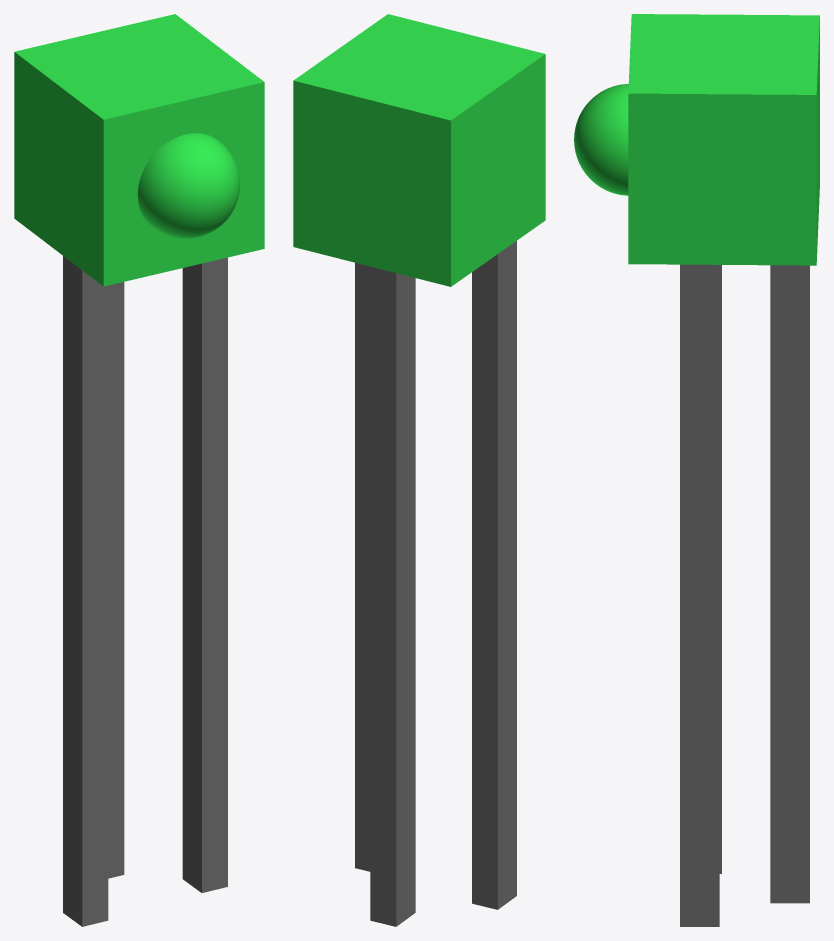
3 views of the same model, side by side, from view 1: azimuth 30°, elevation 25°; view 2: azimuth 150°, elevation 25°; view 3: azimuth 270°, elevation 25° (orthographic). The views are drawn at different scales.
Visible parts, largest first — view 1: tower; view 2: tower; view 3: tower.
Part boxes in pixels (bbox=[...]): tower: bbox=[14, 14, 264, 926]; tower: bbox=[293, 14, 545, 926]; tower: bbox=[574, 14, 819, 926].
Size of the model in its own units: 2.05 by 10 by 2.64.
